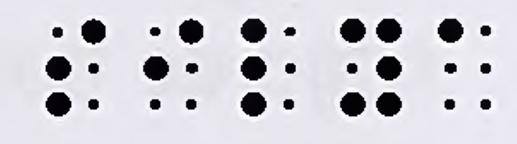letter_a: (436, 14, 496, 118)
letter_i: (144, 16, 205, 116)
letter_l: (236, 14, 298, 120)
letter_s: (48, 16, 106, 118)
letter_y: (336, 14, 403, 121)
